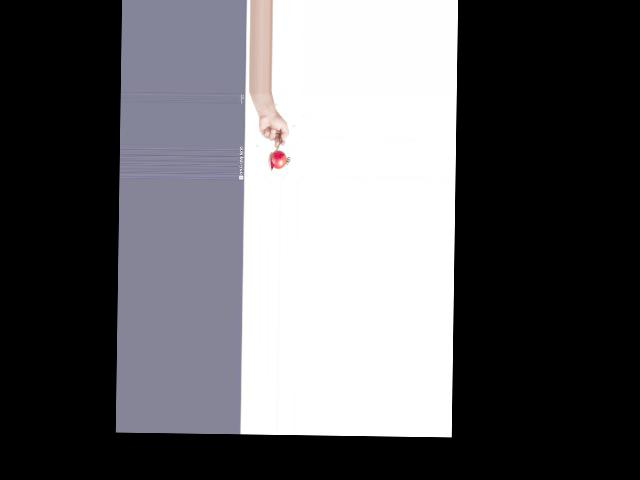tomato: (270, 149, 286, 168)
